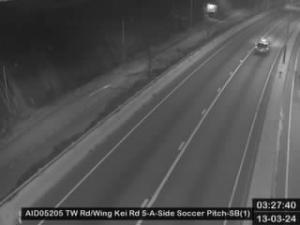vehicle: (254, 38, 270, 54)
